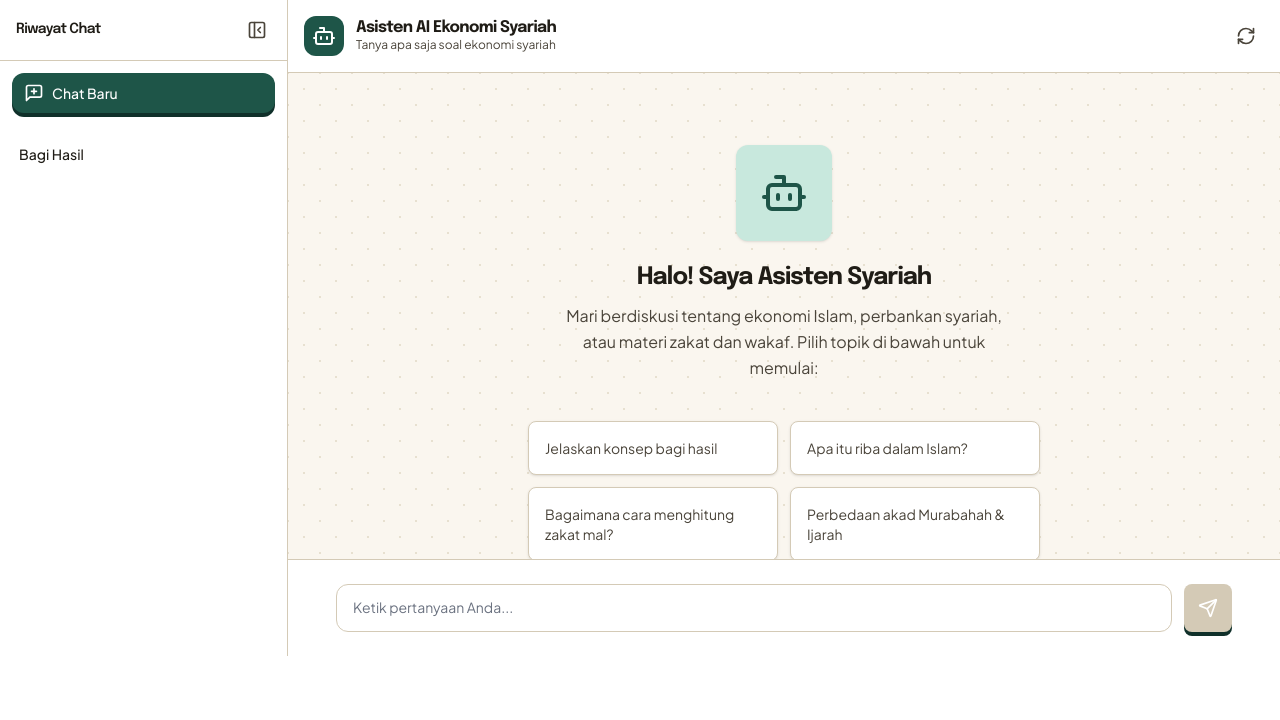
Scenario: F5 — Chatbot AI › TC-F.22: Student memilih chat lama dari sidebar
The width and height of the screenshot is (1280, 720).
Click the text "Bagi Hasil" at (51, 154), box left=19, top=145, right=84, bottom=163
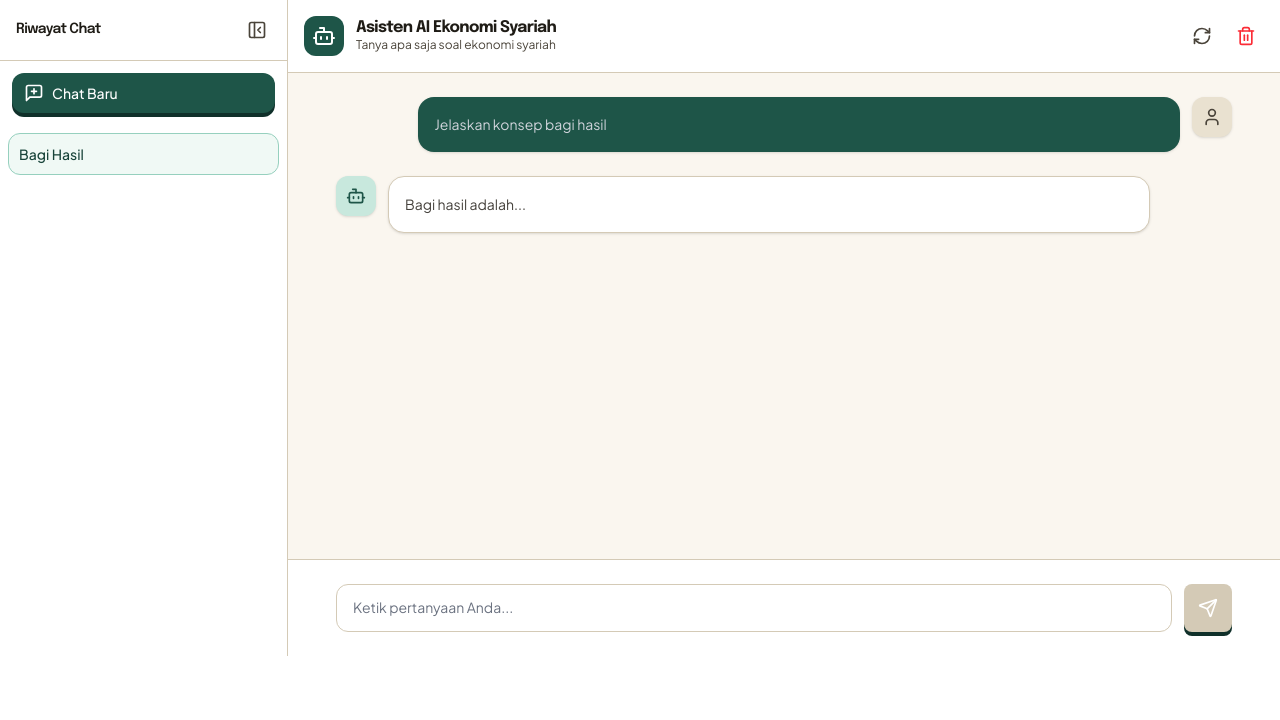
Check: the text "Jelaskan konsep bagi hasil" is shown, box left=434, top=115, right=607, bottom=133
Check: the text "Bagi hasil adalah..." is shown, box left=405, top=195, right=526, bottom=213
